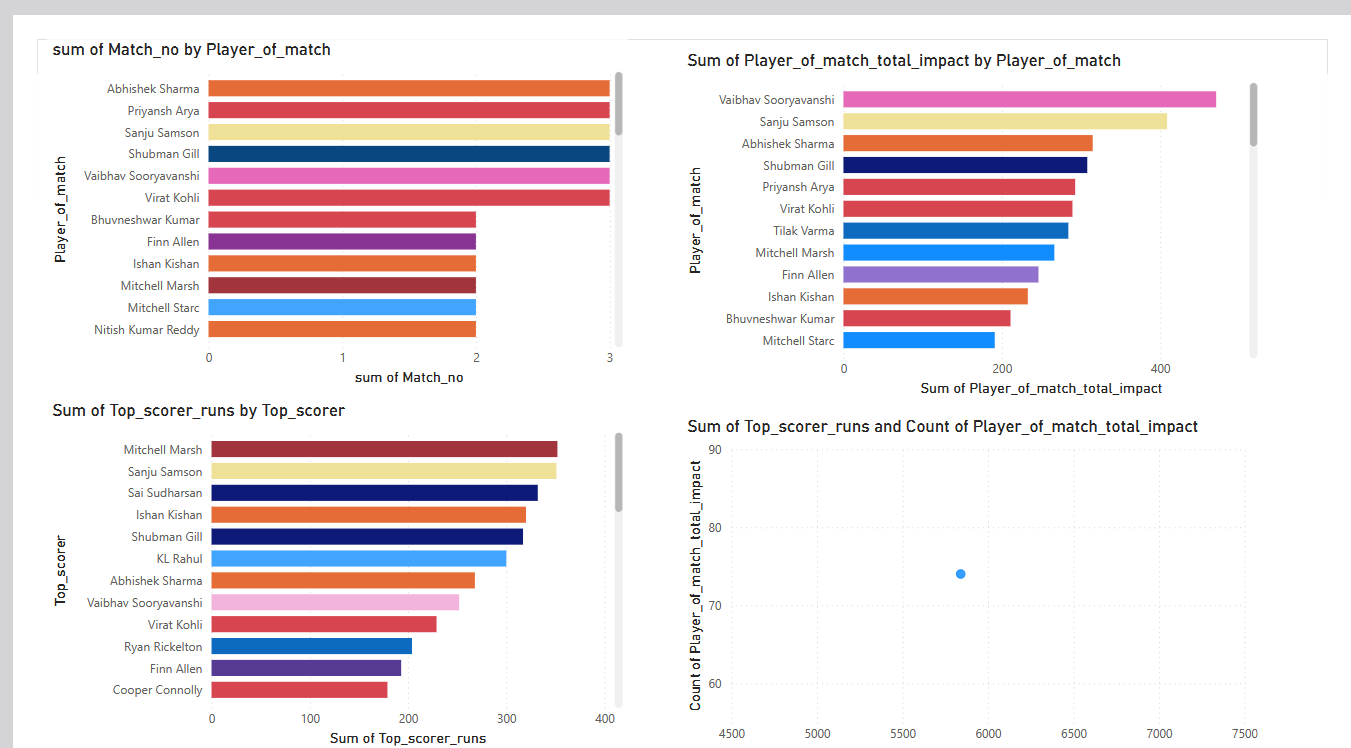

This screenshot's page, from the dashboard's own definition file:
{"tool":"powerbi","page":{"name":"Player Impact Details","canvas":[1280,720],"ordinal":1},"visuals":[{"type":"barChart","fields":{"Category":["match_data.Player_of_match"],"Y":["CountNonNull(match_data.Match_no)"]},"box":[9.7,0,576.4,348.1],"z":0},{"type":"barChart","fields":{"Category":["match_data.Player_of_match"],"Y":["Sum(match_data.Player_of_match_total_impact)"]},"box":[639.6,11.3,576.4,348.1],"z":1000},{"type":"barChart","fields":{"Category":["match_data.Top_scorer"],"Y":["Sum(match_data.Top_scorer_runs)"]},"box":[10,358,576,348],"z":2000},{"type":"scatterChart","fields":{"X":["Sum(match_data.Top_scorer_runs)"],"Y":["CountNonNull(match_data.Player_of_match_total_impact)"]},"box":[639.6,374,576.4,346.5],"z":3000}]}

Visuals, with their boxes in screenshot pixels (x1, y1, x2, y2), scaled from the page's 1280x720 canvas onto the 1351x748 screenshot:
barChart - match_data.Player_of_match x CountNonNull(match_data.Match_no): 10,0,619,362
barChart - match_data.Player_of_match x Sum(match_data.Player_of_match_total_impact): 675,12,1283,373
barChart - match_data.Top_scorer x Sum(match_data.Top_scorer_runs): 11,372,619,733
scatterChart - Sum(match_data.Top_scorer_runs) x CountNonNull(match_data.Player_of_match_total_impact): 675,389,1283,747
